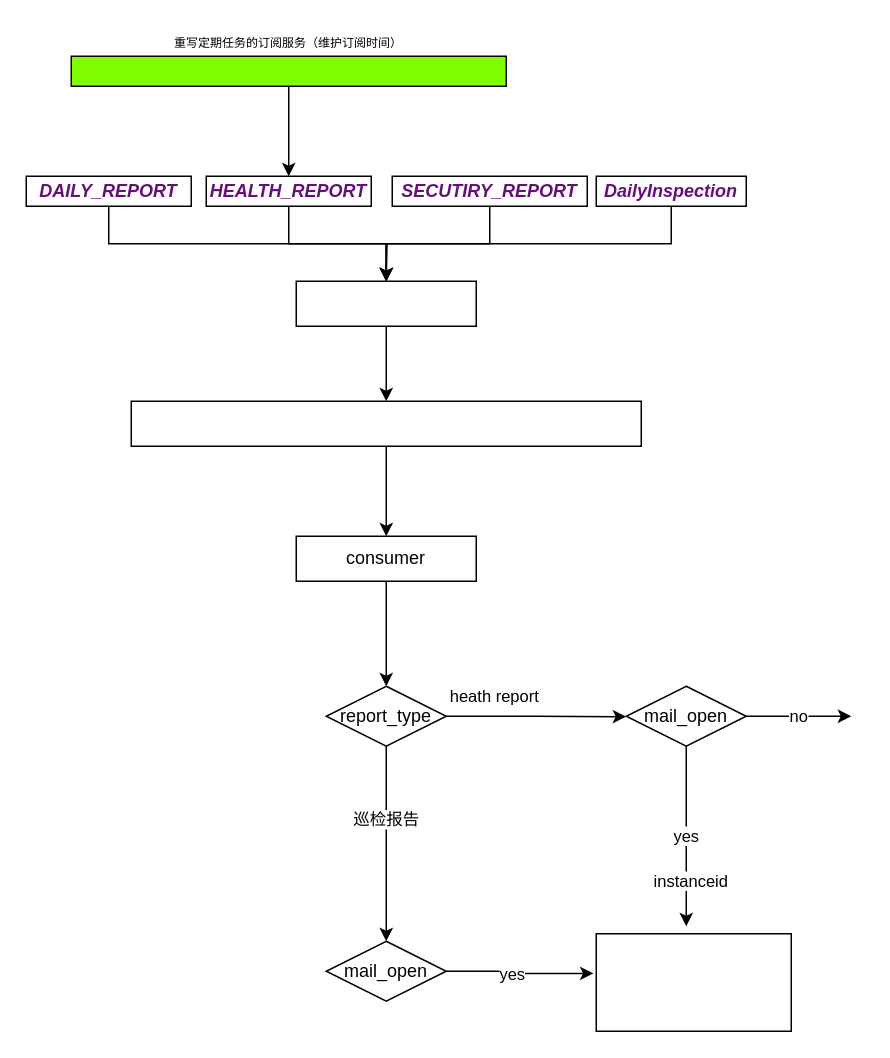
Some shapes in this 890 by 1058 pixel diagram are drawn without their labels. Each missing label, with the centre of its shape:
"MysqlReportRoutine" belongs at (x=385, y=303).
"sendmail_susbcribe_service" belongs at (x=693, y=981).
"subscribeService .describeSubscribesOpen" belongs at (x=288, y=70).
"task queue" belongs at (x=385, y=423).
